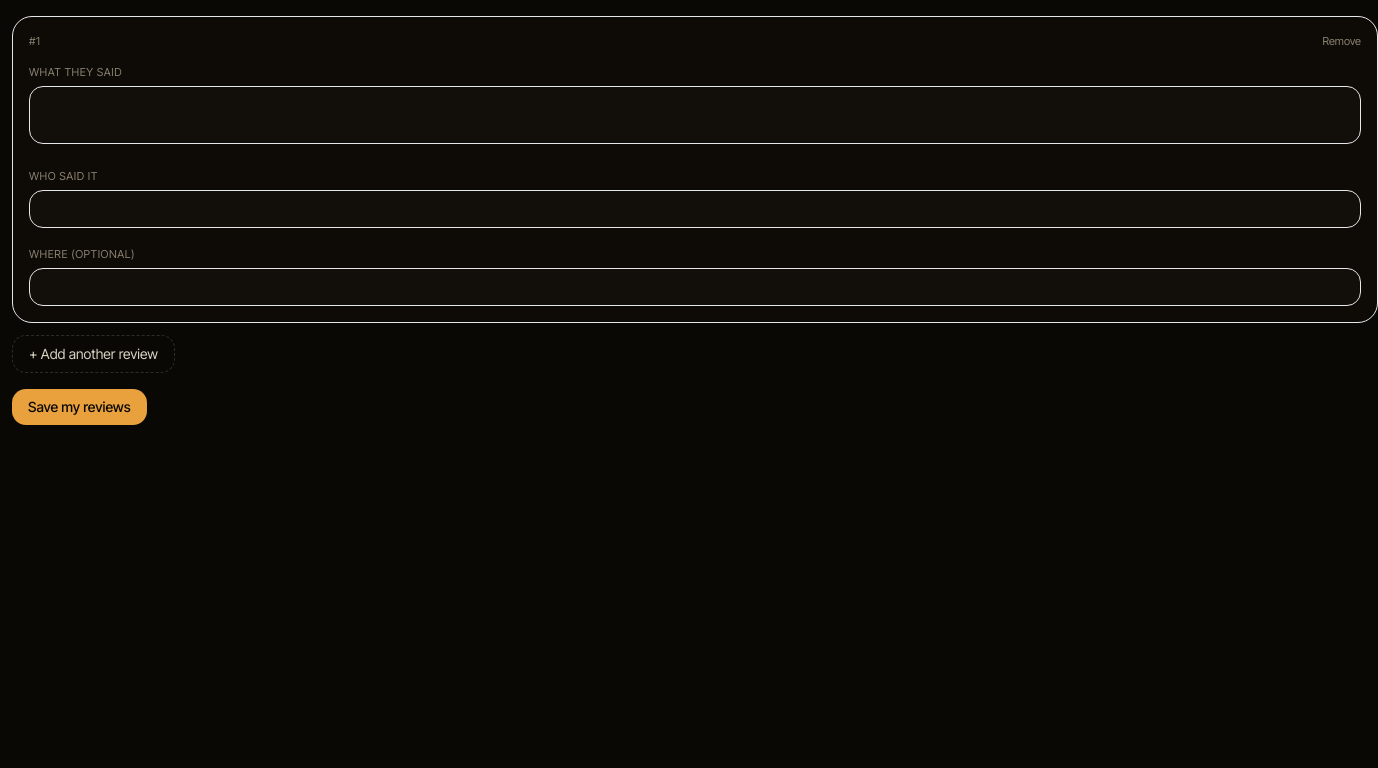
RowsEditor › “Add another” appends a row
Step 1. Click the button "+ Add another review" → [93, 354], box [12, 334, 175, 372]
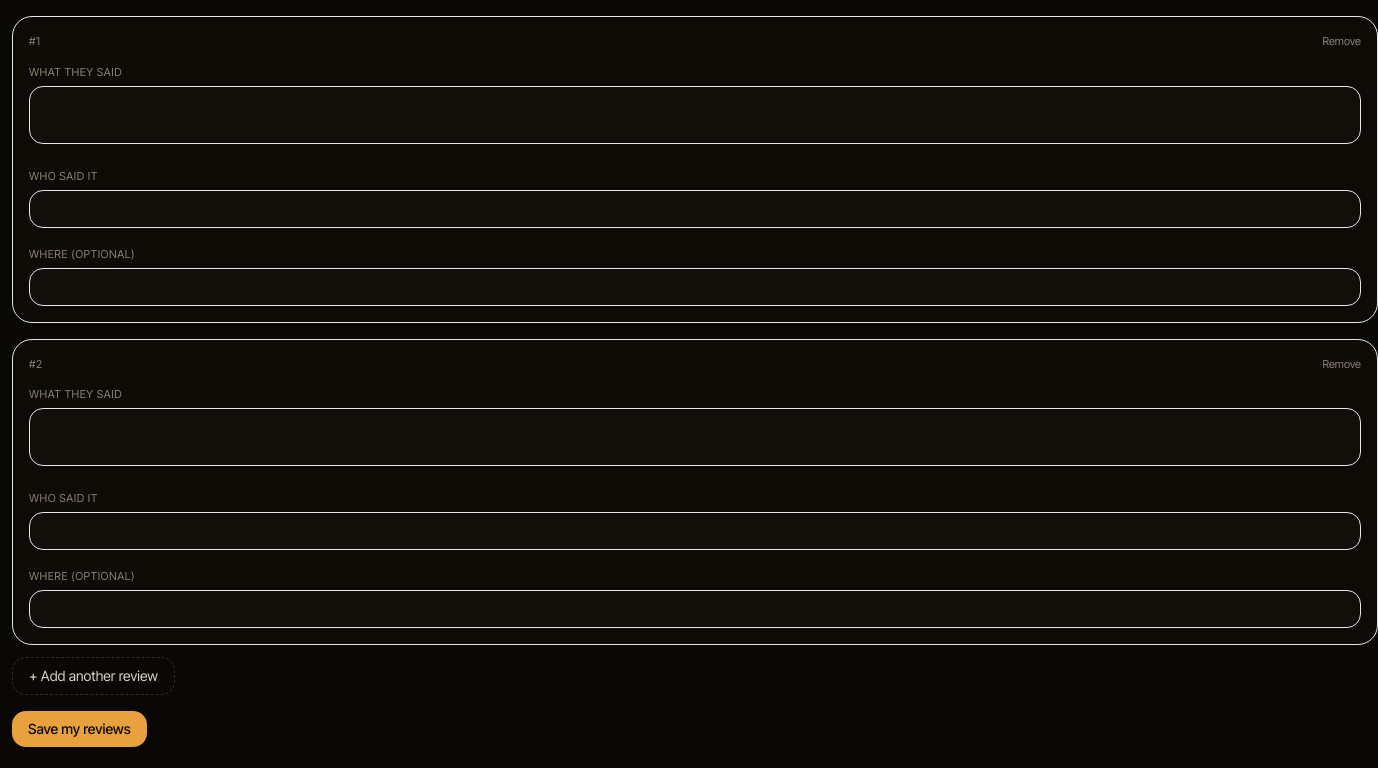
Check: the text "#2" is shown, box [29, 356, 43, 372]
